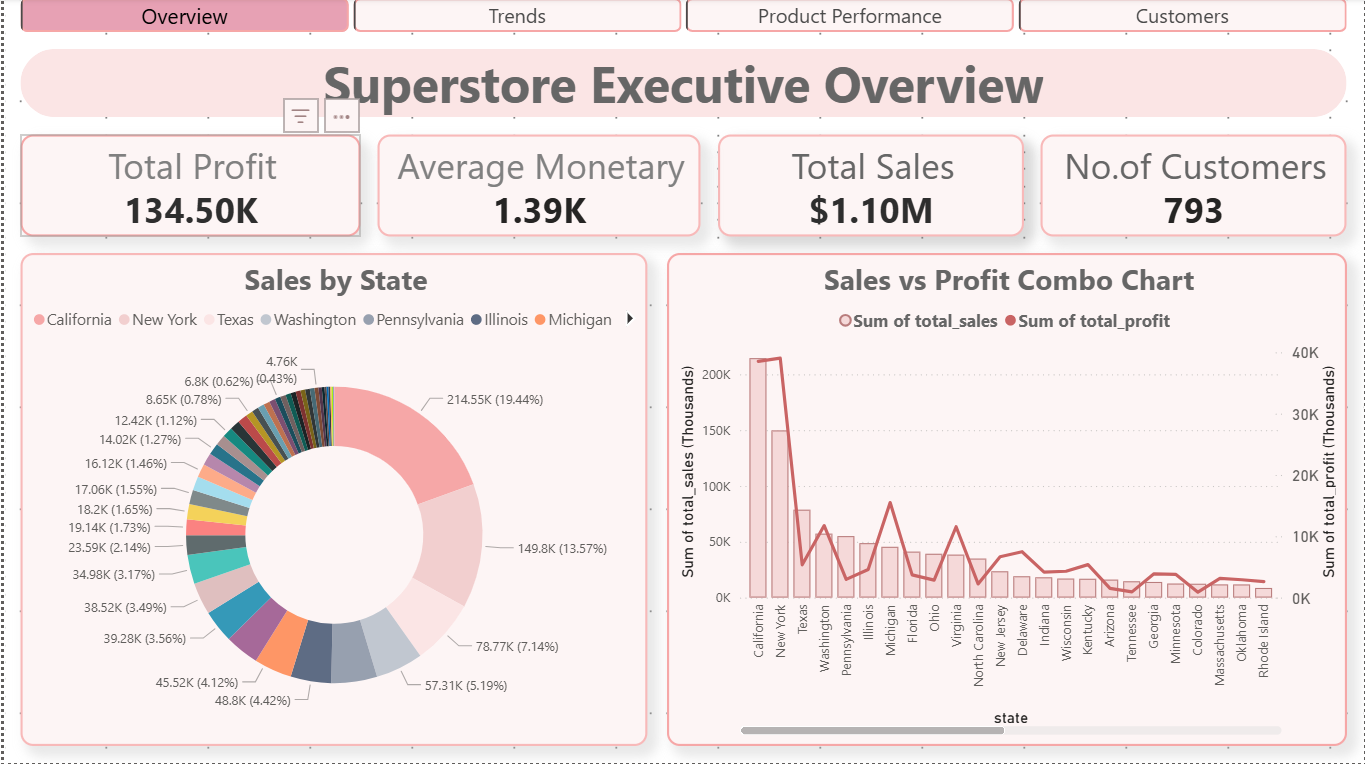

The page's visual inventory and layout, read from the dashboard file:
{"tool":"powerbi","page":{"name":"Overview","canvas":[1280,720],"ordinal":0},"visuals":[{"type":"shape","title":"Superstore Executive Overview","box":[16,48,1248,64],"z":0},{"type":"card","title":"Total Sales","fields":{"Values":["Sum(monthly_sales.Total_Sales)"]},"box":[672,128,288,96],"z":1000},{"type":"card","title":"Total Profit","fields":{"Values":["Sum(monthly_sales.Total_Profit)"]},"box":[16,128,320,96],"z":2000},{"type":"card","title":"Average Monetary","fields":{"Values":["Avg(rfm_table.Monetary)"]},"box":[352,128,304,96],"z":3000},{"type":"card","title":"No.of Customers","fields":{"Values":["Count(rfm_table.Customer ID)"]},"box":[976,128,288,96],"z":4000},{"type":"donutChart","title":"Sales by State","fields":{"Category":["state_sales.state"],"Y":["Sum(state_sales.total_sales)"]},"box":[16,240,590,464],"z":5000},{"type":"lineClusteredColumnComboChart","title":"Sales vs Profit Combo Chart","fields":{"Category":["state_sales.state"],"Y":["Sum(state_sales.total_sales)"],"Y2":["Sum(state_sales.total_profit)"]},"box":[624,240,640,464],"z":6000},{"type":"pageNavigator","box":[16,0,1248,32],"z":10001}]}

Visuals, with their boxes in screenshot pixels (x1, y1, x2, y2), scaled from the page's 1280x720 canvas onto the 1365x764 screenshot:
"Superstore Executive Overview" shape: crop(17, 51, 1348, 119)
"Total Sales" card: crop(717, 136, 1024, 238)
"Total Profit" card: crop(17, 136, 358, 238)
"Average Monetary" card: crop(375, 136, 700, 238)
"No.of Customers" card: crop(1041, 136, 1348, 238)
"Sales by State" donutChart: crop(17, 255, 646, 747)
"Sales vs Profit Combo Chart" lineClusteredColumnComboChart: crop(665, 255, 1348, 747)
pageNavigator: crop(17, 0, 1348, 34)
